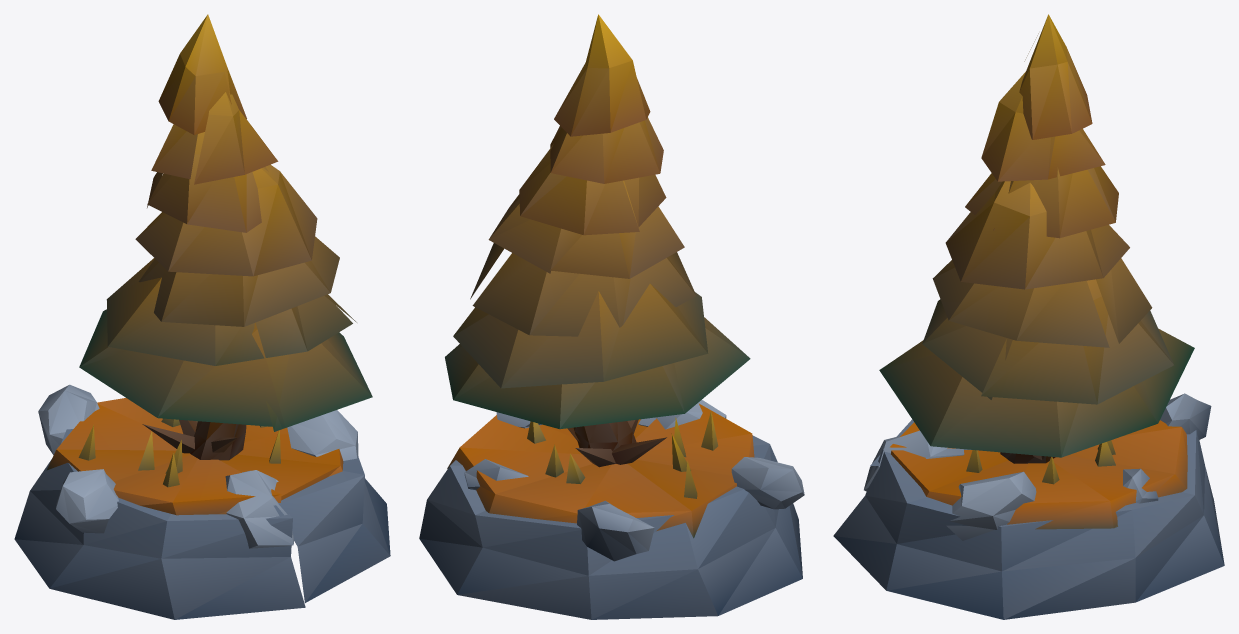
Rendered from pohon_pine_autumn_221015.glb.
3 renders of one model, left to right at view 1: azimuth 30°, elevation 25°; view 2: azimuth 150°, elevation 25°; view 3: azimuth 270°, elevation 25°, orthographic. The views are drawn at different scales.
Parts seen in each view (by area): view 1: Dedaunan_Pinus, Pulau_Batu_Tepi_Sungai, Batang_Dan_Akar; view 2: Dedaunan_Pinus, Pulau_Batu_Tepi_Sungai, Batang_Dan_Akar; view 3: Dedaunan_Pinus, Pulau_Batu_Tepi_Sungai.
Part boxes in pixels (x1=…): Dedaunan_Pinus: x1=79, y1=14, x2=372, y2=431; Pulau_Batu_Tepi_Sungai: x1=14, y1=384, x2=390, y2=619; Batang_Dan_Akar: x1=142, y1=419, x2=246, y2=460; Dedaunan_Pinus: x1=445, y1=14, x2=750, y2=429; Pulau_Batu_Tepi_Sungai: x1=419, y1=400, x2=804, y2=619; Batang_Dan_Akar: x1=567, y1=419, x2=666, y2=467; Dedaunan_Pinus: x1=879, y1=14, x2=1194, y2=457; Pulau_Batu_Tepi_Sungai: x1=833, y1=393, x2=1224, y2=619.
Size of the model in its own units: 5.48 by 8.11 by 5.38.
